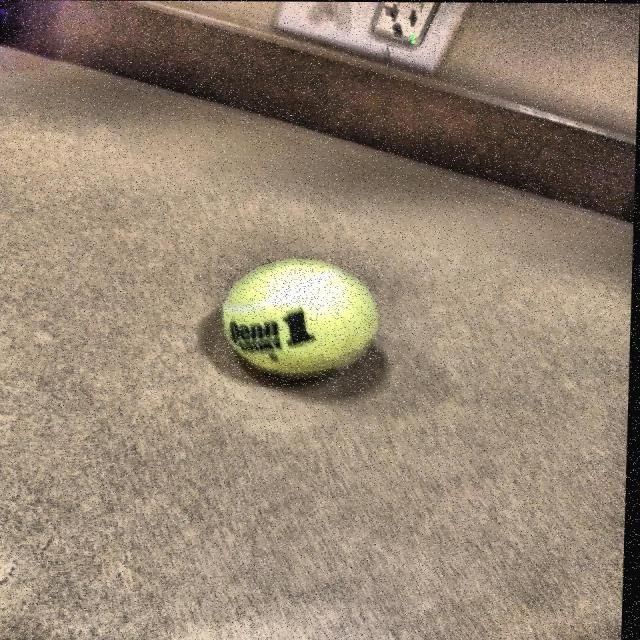tennis-ball: (217, 255, 387, 388)
